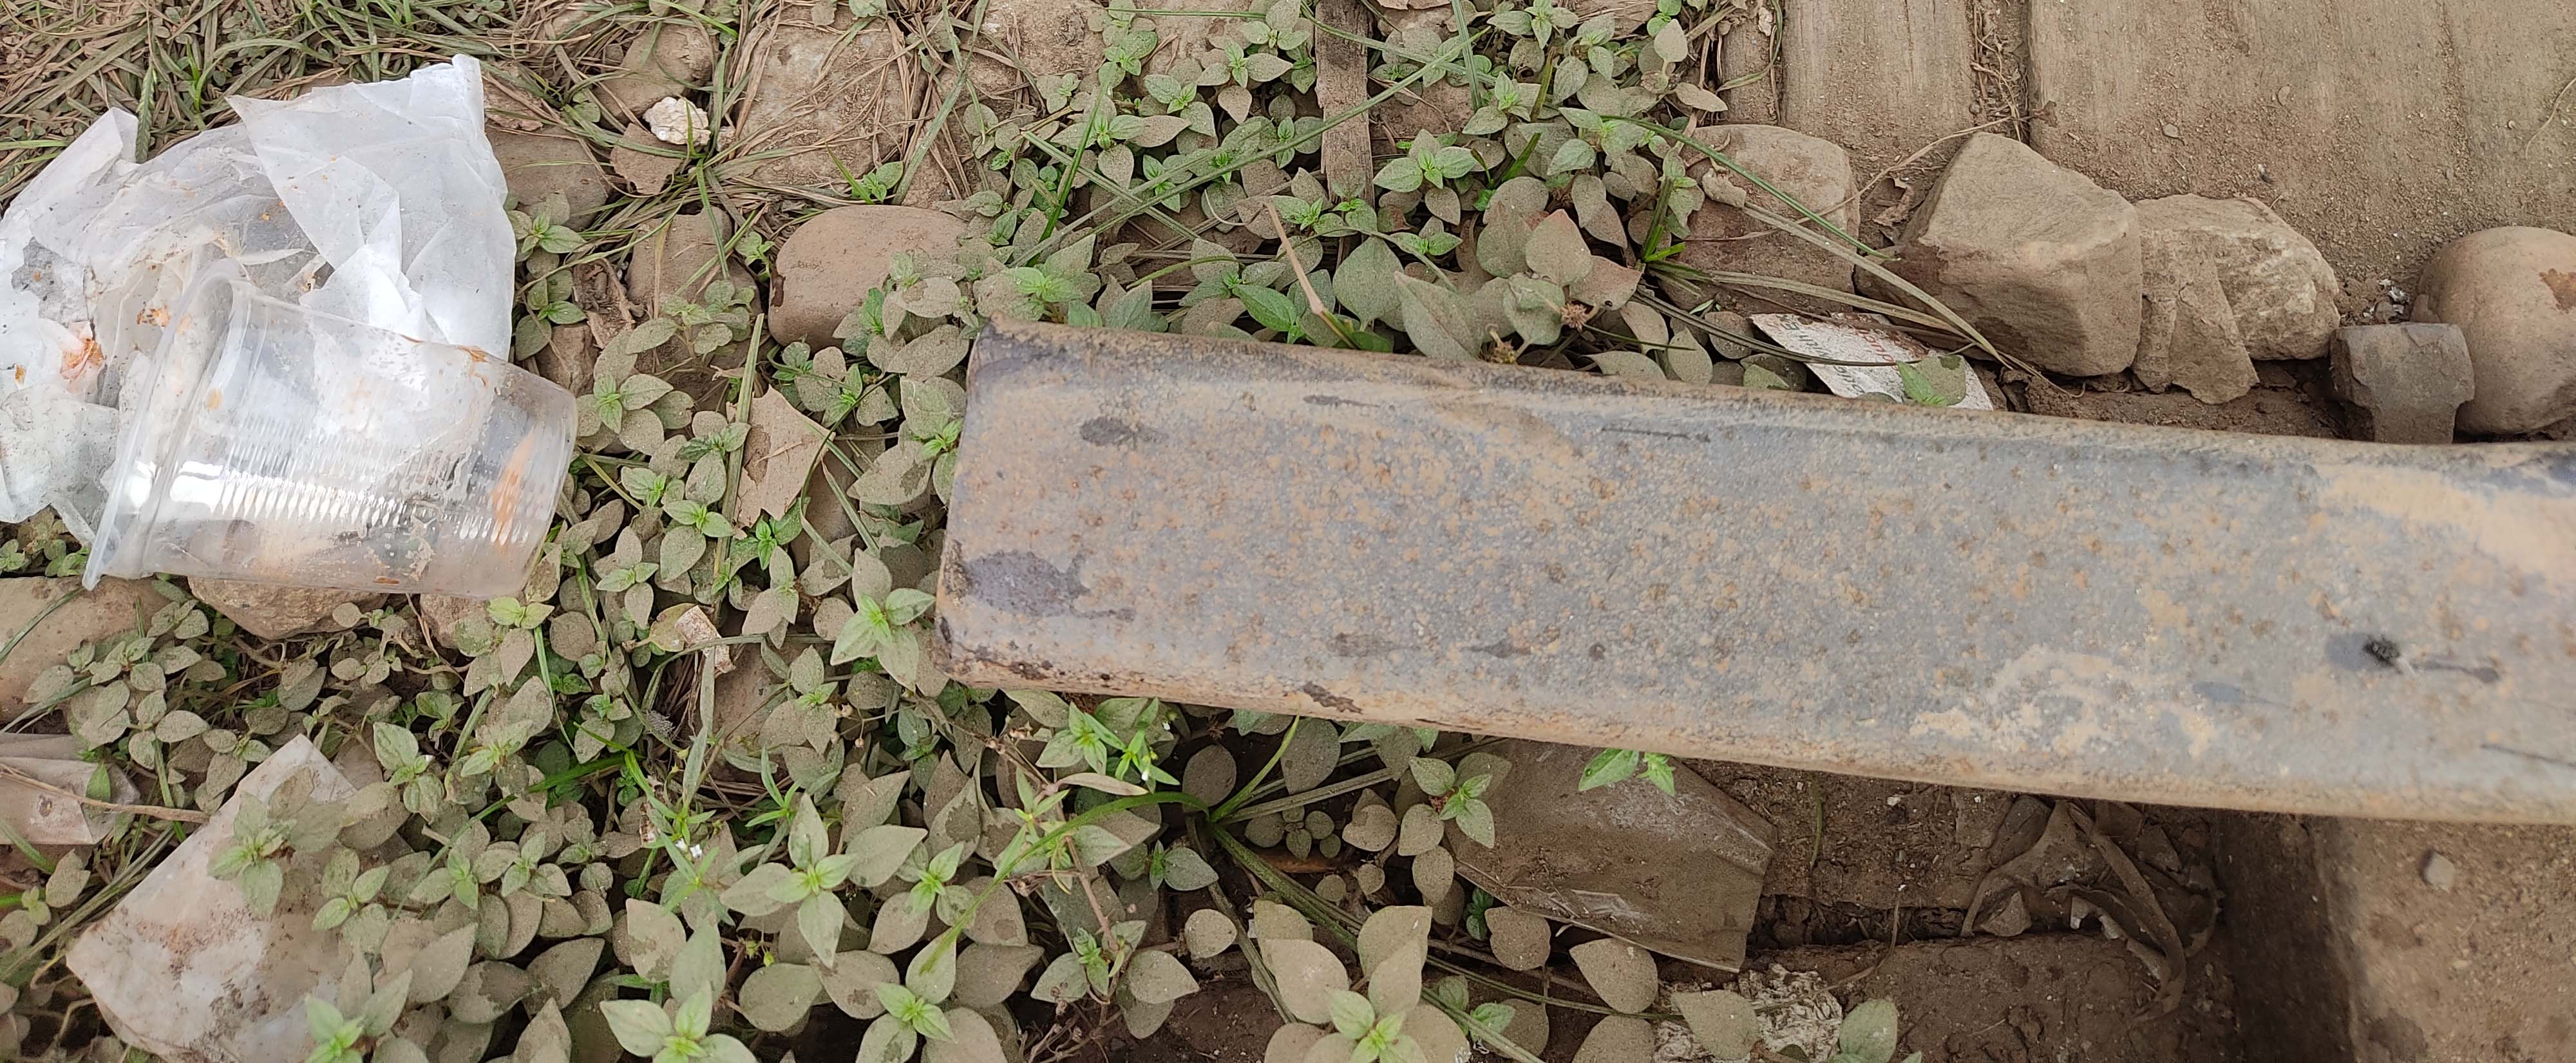error2: (838, 250, 1061, 721)
